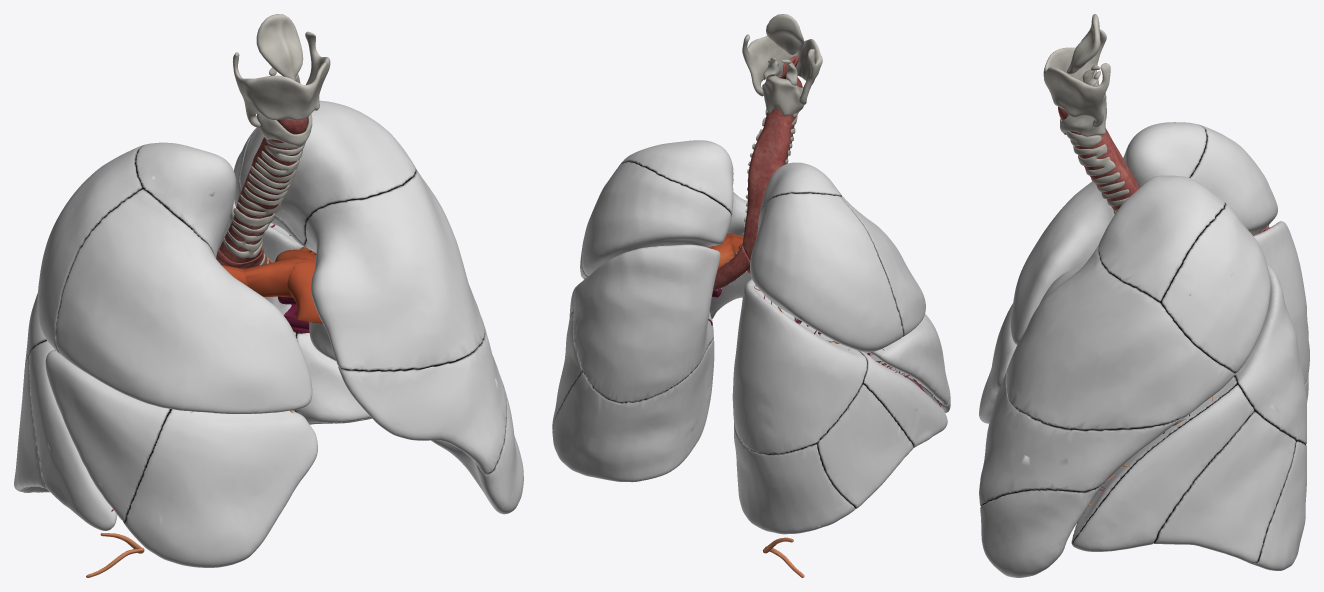
3 renders of one model, left to right at view 1: azimuth 30°, elevation 25°; view 2: azimuth 150°, elevation 25°; view 3: azimuth 270°, elevation 25°, orthographic. The views are drawn at different scales.
Visible parts, largest first — view 1: right_anterior, left_anterior, right_medial, left_lingula_superior, left_apical, right_lateral, larynx, right_apical, right_posterior, right_anterior_basal, tracheal_rings, left_lingula_inferior (+7 smaller); view 2: left_superior, right_posterior, right_superior, left_posterior_basal, left_posterior, right_posterior_basal, right_lateral_basal, larynx, left_apical, right_anterior_basal, trachea, right_lateral (+7 smaller); view 3: left_anterior, left_lateral_basal, left_posterior, left_lingula_superior, left_anterior_basal, left_apical, left_lingula_inferior, left_superior, right_anterior, larynx, right_posterior, right_apical (+6 smaller).
Part boxes in pixels (<box>): right_anterior: <box>56,189,312,413</box>; left_anterior: <box>305,170,484,371</box>; right_medial: <box>123,409,317,567</box>; left_lingula_superior: <box>338,326,506,473</box>; left_apical: <box>240,100,416,243</box>; right_lateral: <box>45,349,171,521</box>; larynx: <box>233,14,330,147</box>; right_apical: <box>135,142,235,258</box>; right_posterior: <box>37,145,144,353</box>; right_anterior_basal: <box>29,340,117,530</box>; tracheal_rings: <box>223,139,305,258</box>; left_lingula_inferior: <box>309,322,523,514</box>; left_superior: <box>573,244,720,402</box>; right_posterior: <box>750,193,903,352</box>; right_superior: <box>732,279,867,454</box>; left_posterior_basal: <box>552,337,714,482</box>; left_posterior: <box>582,162,731,276</box>; right_posterior_basal: <box>734,423,855,534</box>; right_lateral_basal: <box>815,384,913,508</box>; larynx: <box>742,14,822,115</box>; left_apical: <box>618,140,733,216</box>; right_anterior_basal: <box>859,351,947,447</box>; trachea: <box>742,56,802,260</box>; right_lateral: <box>864,314,948,404</box>; left_anterior: <box>1006,245,1235,430</box>; left_lateral_basal: <box>1154,411,1295,563</box>; left_posterior: <box>1161,202,1270,372</box>; left_lingula_superior: <box>979,368,1190,506</box>; left_anterior_basal: <box>1071,385,1254,551</box>; left_apical: <box>1098,175,1224,303</box>; left_lingula_inferior: <box>980,483,1104,577</box>; left_superior: <box>1234,264,1306,444</box>; right_anterior: <box>1010,182,1115,344</box>; larynx: <box>1043,14,1110,136</box>; right_posterior: <box>1190,124,1277,235</box>; right_apical: <box>1123,122,1206,186</box>.
Size of the model in its own units: 1.65 by 2.25 by 1.21.
